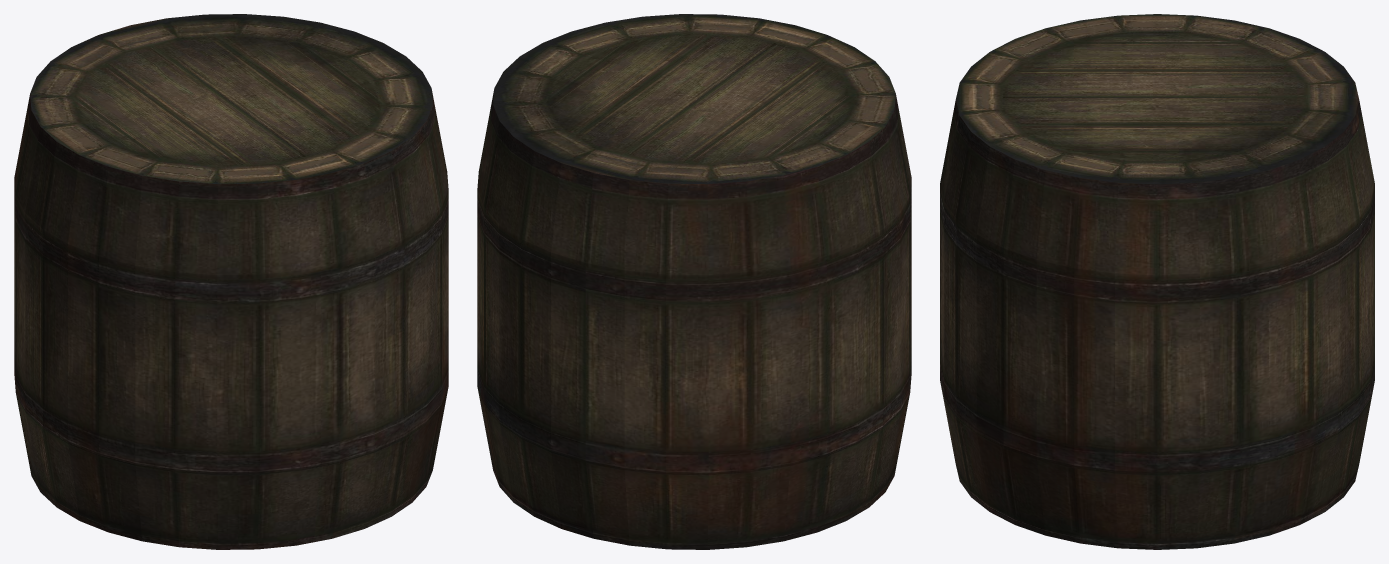
File: barril.fbx
3 renders of one model, left to right at view 1: azimuth 30°, elevation 25°; view 2: azimuth 150°, elevation 25°; view 3: azimuth 270°, elevation 25°, orthographic.
Parts seen in each view (by area): view 1: Cylinder; view 2: Cylinder; view 3: Cylinder.
Part boxes in pixels (bbox=[...]): Cylinder: bbox=[14, 14, 448, 549]; Cylinder: bbox=[477, 14, 911, 549]; Cylinder: bbox=[940, 14, 1374, 549].
Bounding box in the file's own units: 216 × 200 × 216.
Materials: 1 (1 with a texture image).
